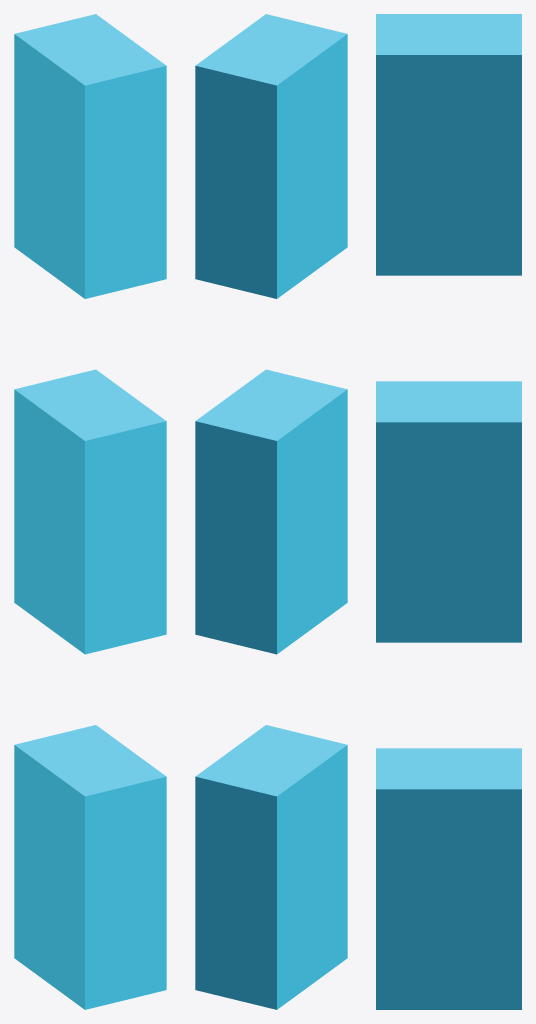
Rendered from Link_DashV.gltf.
The picture shows the model from 3 angles, left to right: view 1: azimuth 30°, elevation 25°; view 2: azimuth 150°, elevation 25°; view 3: azimuth 270°, elevation 25°; orthographic projection. The views are drawn at different scales.
Visible parts, largest first — view 1: Link_DashV_baked; view 2: Link_DashV_baked; view 3: Link_DashV_baked.
Part boxes in pixels (left/top/right/bottom): Link_DashV_baked: left=14, top=14, right=166, bottom=1009; Link_DashV_baked: left=195, top=14, right=347, bottom=1009; Link_DashV_baked: left=376, top=14, right=521, bottom=1009.
Bounding box in the file's own units: 0.08 × 0.866 × 0.12.
